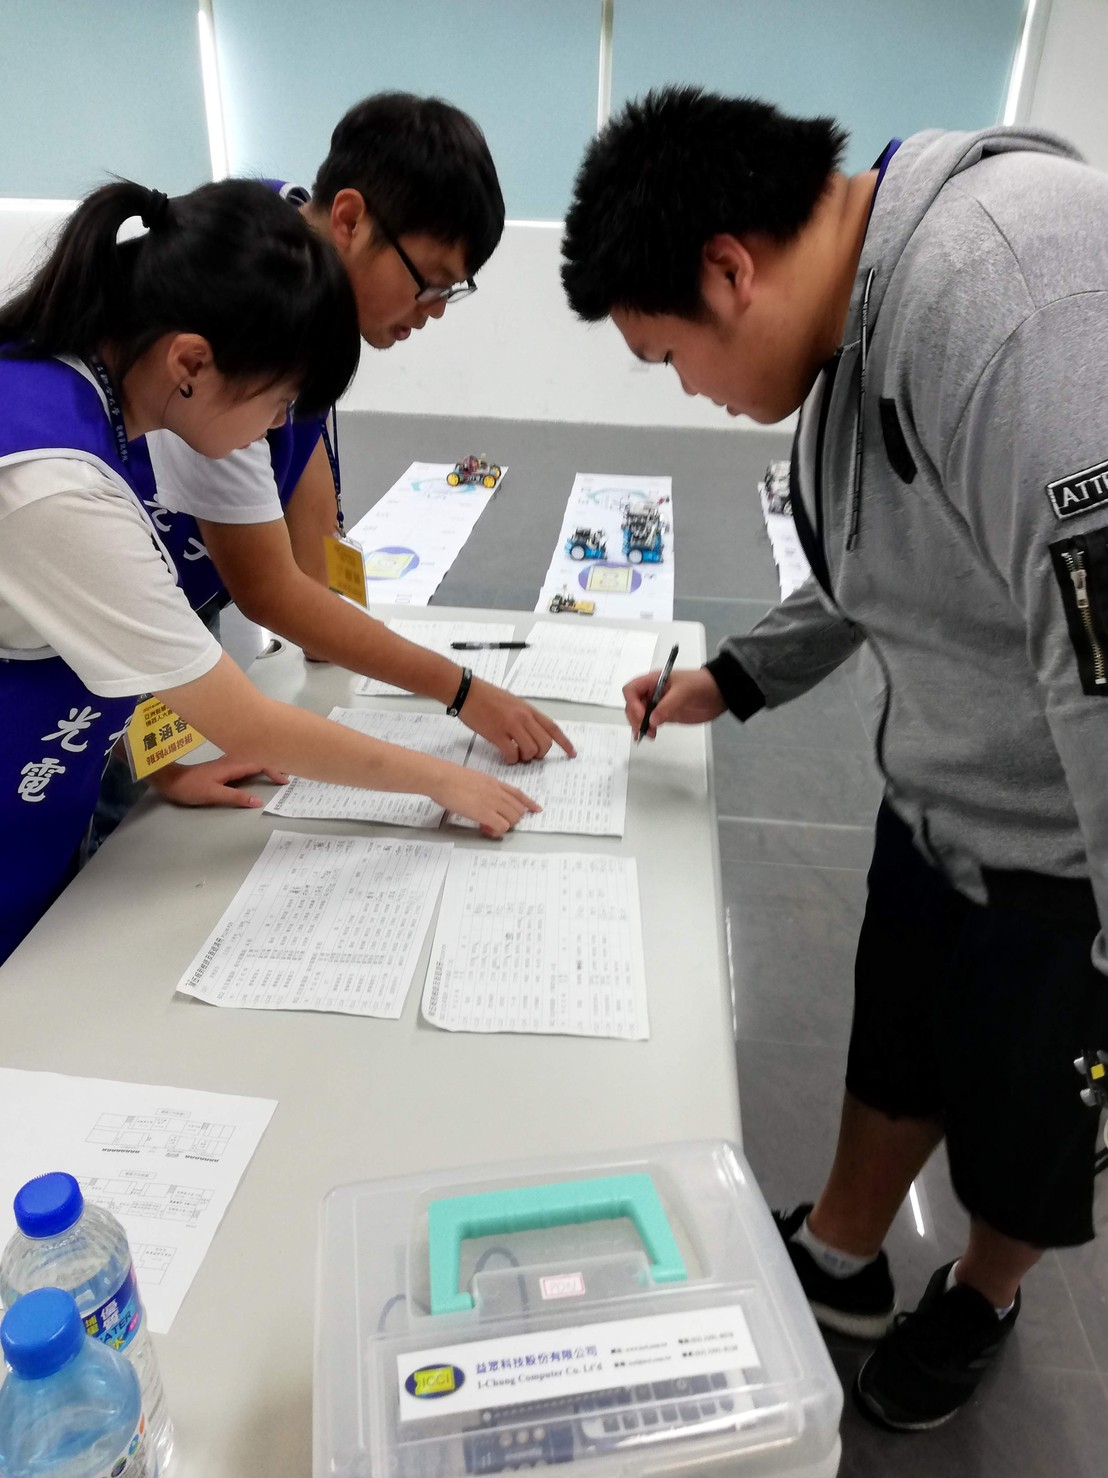people: (545, 90, 1086, 1400), (1, 157, 355, 869), (302, 83, 540, 488)
